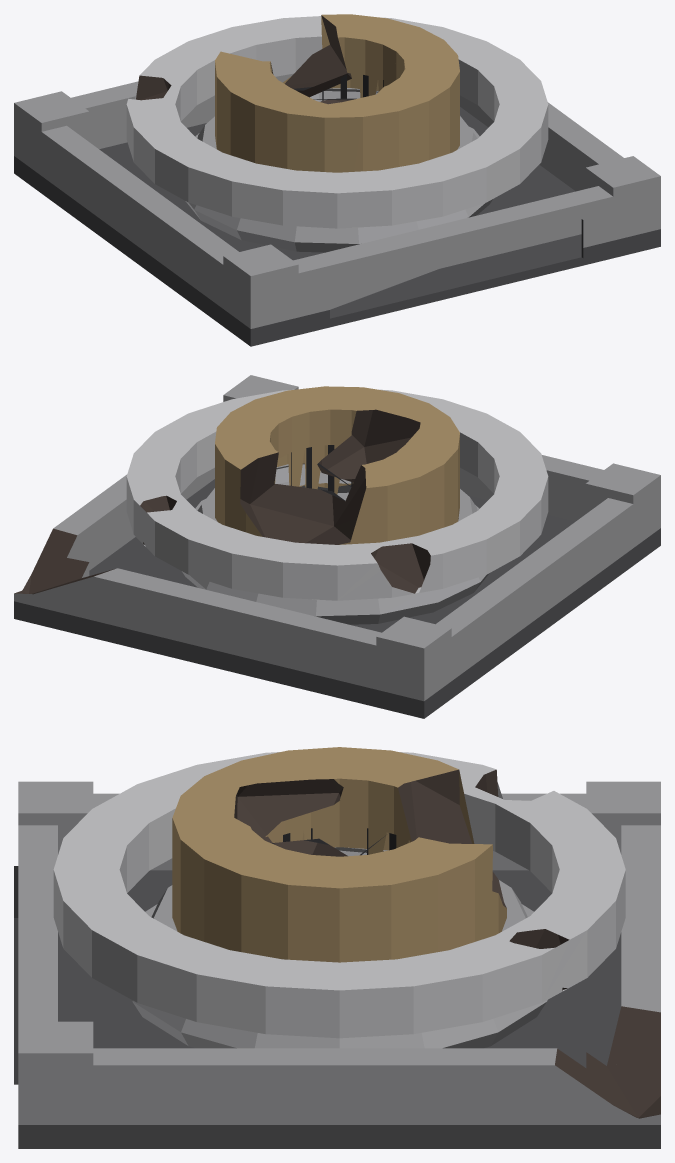
File: vge_d_gravheatabsorber.obj
3 renders of one model, top to bottom at view 1: azimuth 30°, elevation 25°; view 2: azimuth 150°, elevation 25°; view 3: azimuth 270°, elevation 25°, orthographic. The views are drawn at different scales.
Visible parts, largest first — view 1: vge_d_gravheatabsorber; view 2: vge_d_gravheatabsorber; view 3: vge_d_gravheatabsorber.
Part boxes in pixels (<box>): vge_d_gravheatabsorber: <box>14,14,660,346</box>; vge_d_gravheatabsorber: <box>14,375,660,718</box>; vge_d_gravheatabsorber: <box>14,747,660,1148</box>.
Bounding box in the file's own units: 2.92 × 0.98 × 2.94.
